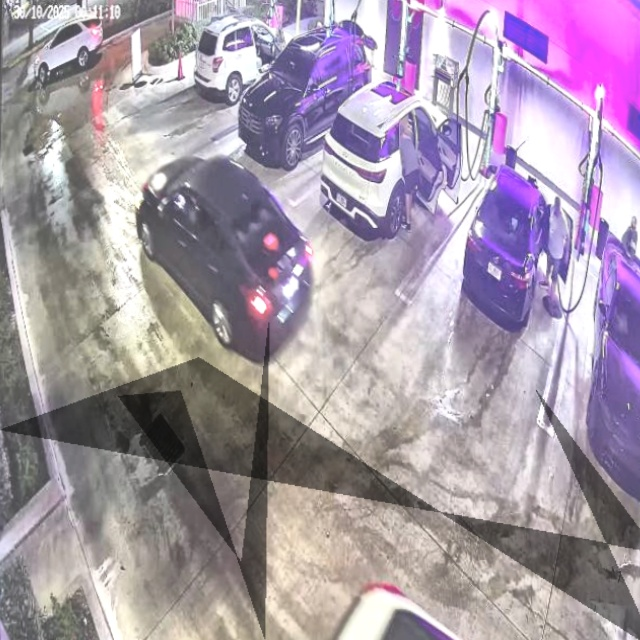Car: (135, 155, 314, 355), (319, 75, 465, 244), (457, 169, 571, 331)
